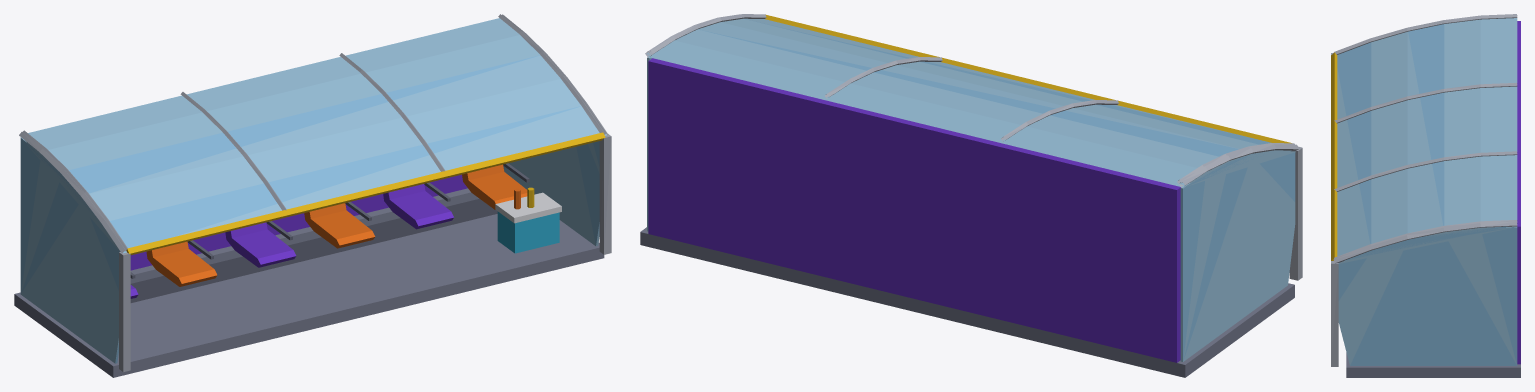
The model's file is dugout.glb.
3 renders of one model, left to right at view 1: azimuth 30°, elevation 25°; view 2: azimuth 150°, elevation 25°; view 3: azimuth 270°, elevation 25°, orthographic. The views are drawn at different scales.
Visible parts, largest first — view 1: dugout; view 2: dugout; view 3: dugout.
Boxes of the visible parts, bbox=[...] form: dugout: bbox=[14, 14, 611, 377]; dugout: bbox=[640, 14, 1302, 377]; dugout: bbox=[1331, 14, 1520, 377].
Bounding box in the file's own units: 6.6 × 2.25 × 2.5.
